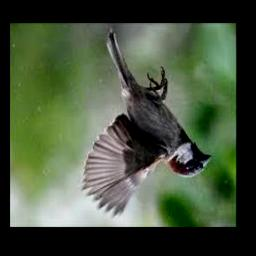Sparrow: (81, 30, 211, 218)
